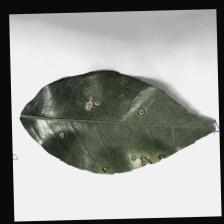greening: (57, 96, 168, 172)
